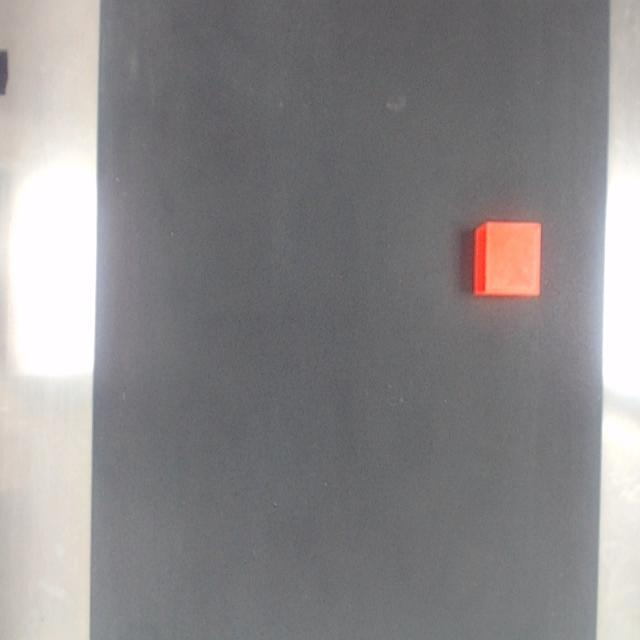Rojo: (475, 221, 541, 295)
